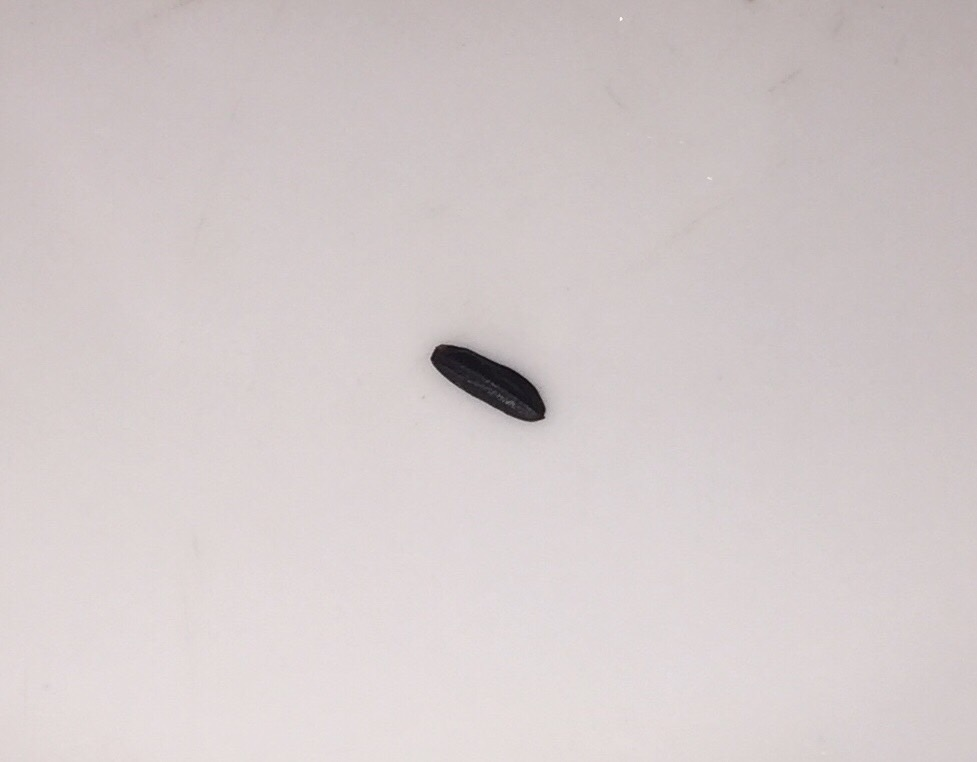Gao Nep Cam: (421, 324, 555, 432)
